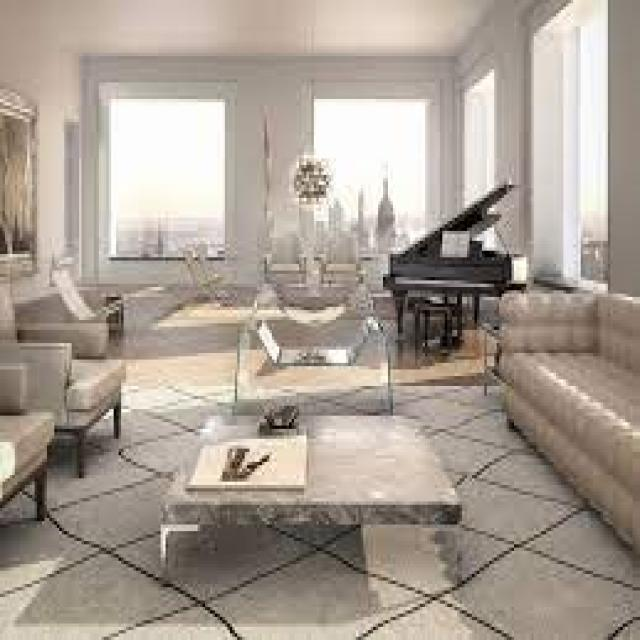Chair: (0, 287, 136, 472), (38, 248, 135, 339), (320, 228, 385, 321), (175, 236, 236, 324), (257, 234, 312, 289)
Lamp: (275, 140, 346, 204)
Sofa: (494, 262, 640, 551)
Table: (152, 382, 462, 608), (224, 304, 399, 420)
